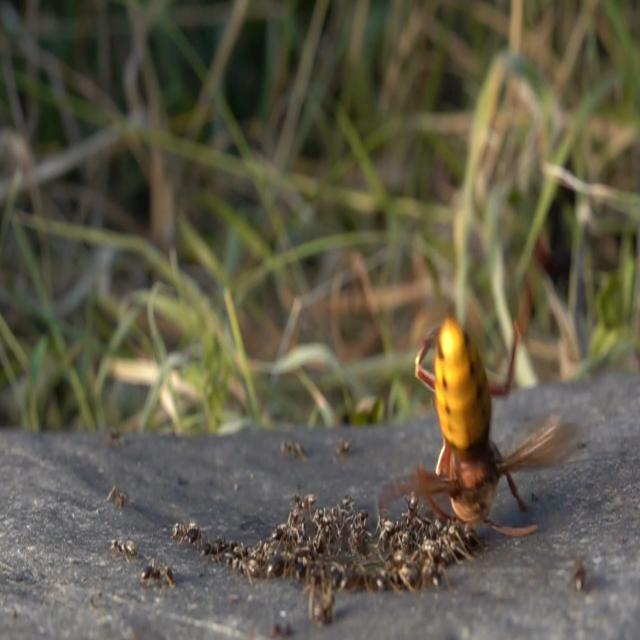Hornets: (385, 281, 576, 540)
